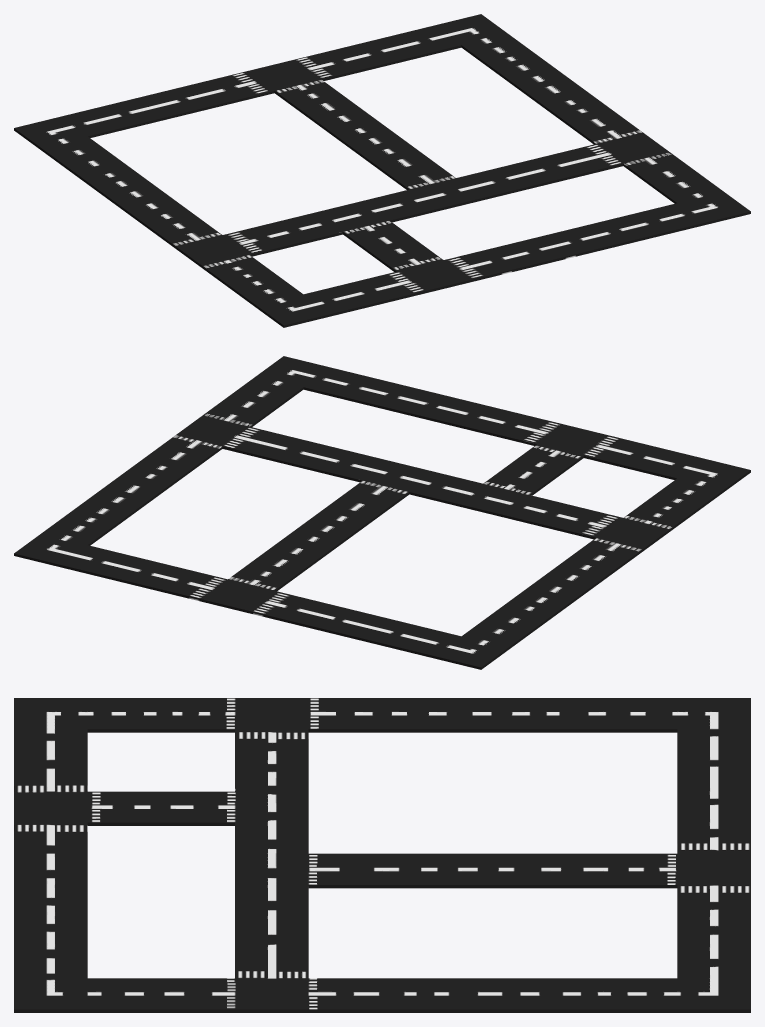
The model's file is roads.dae.
3 views of the same model, one above another, from view 1: azimuth 30°, elevation 25°; view 2: azimuth 150°, elevation 25°; view 3: azimuth 270°, elevation 25° (orthographic). The views are drawn at different scales.
Parts seen in each view (by area): view 1: Plane.001; view 2: Plane.001; view 3: Plane.001.
Part boxes in pixels (box(x1,y1,x2,y2)): Plane.001: box(14, 14, 750, 327); Plane.001: box(14, 356, 750, 669); Plane.001: box(14, 698, 750, 1012).
Size of the model in its own units: 10 by 10 by 0.05.
1 material, 1 textured.
